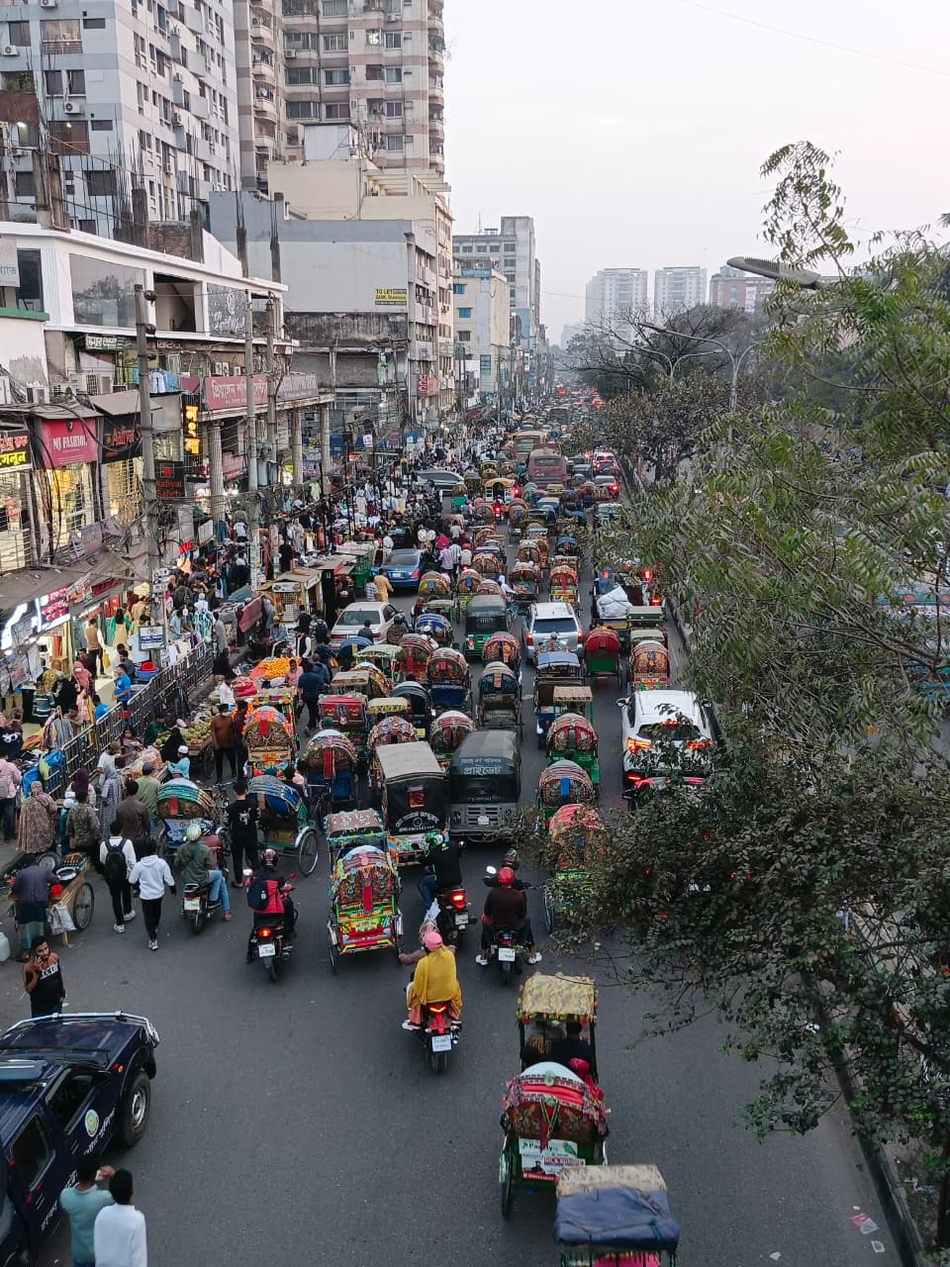Bikes: (474, 844, 538, 990), (240, 848, 308, 985), (172, 818, 235, 942)
auto-ricksaw: (317, 804, 413, 971), (241, 764, 310, 842), (300, 719, 366, 796), (237, 687, 294, 771), (363, 685, 425, 760), (545, 676, 599, 761), (421, 641, 474, 713), (475, 659, 525, 722)
cng: (444, 719, 535, 843), (462, 589, 515, 645)
private car: (613, 686, 726, 799), (323, 591, 405, 651), (522, 593, 582, 653), (385, 540, 436, 594)
